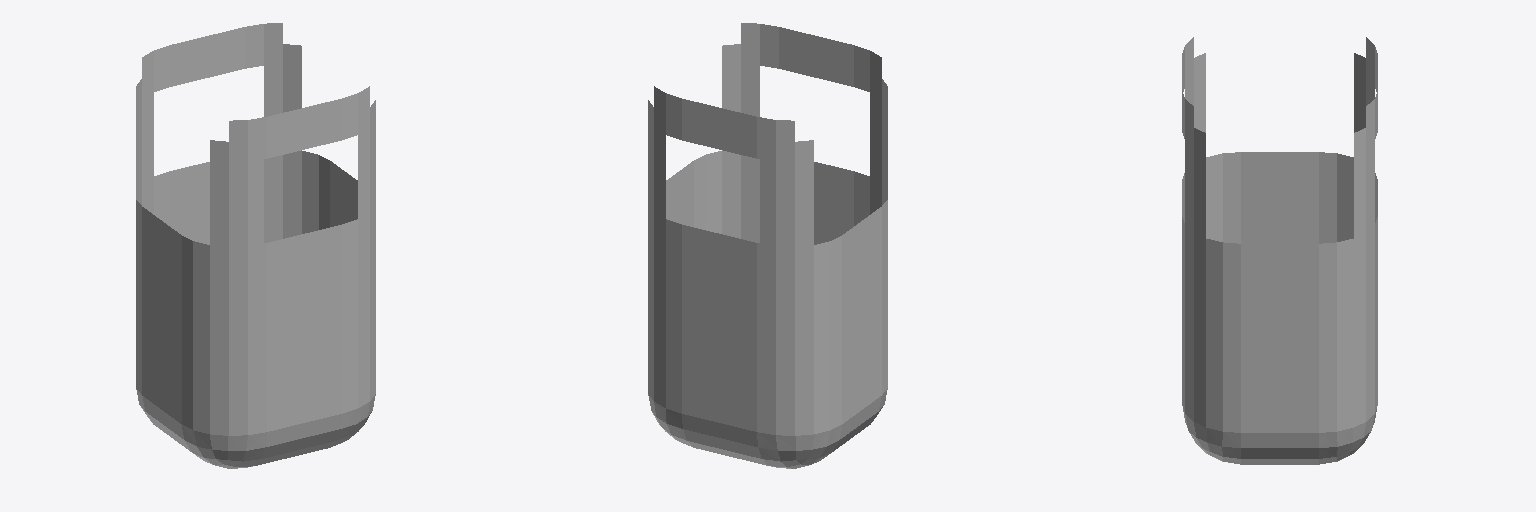
The model's file is bag2-2.obj.
The picture shows the model from 3 angles: view 1: azimuth 30°, elevation 25°; view 2: azimuth 150°, elevation 25°; view 3: azimuth 270°, elevation 25°; orthographic projection.
Visible parts, largest first — view 1: Cube-0-1.053_Cube.168; view 2: Cube-0-1.053_Cube.168; view 3: Cube-0-1.053_Cube.168.
Boxes of the visible parts, <box> form: Cube-0-1.053_Cube.168: <box>136,23,375,468</box>; Cube-0-1.053_Cube.168: <box>648,23,887,468</box>; Cube-0-1.053_Cube.168: <box>1182,37,1377,464</box>.
Bounding box in the file's own units: 2 × 3.75 × 1.8.